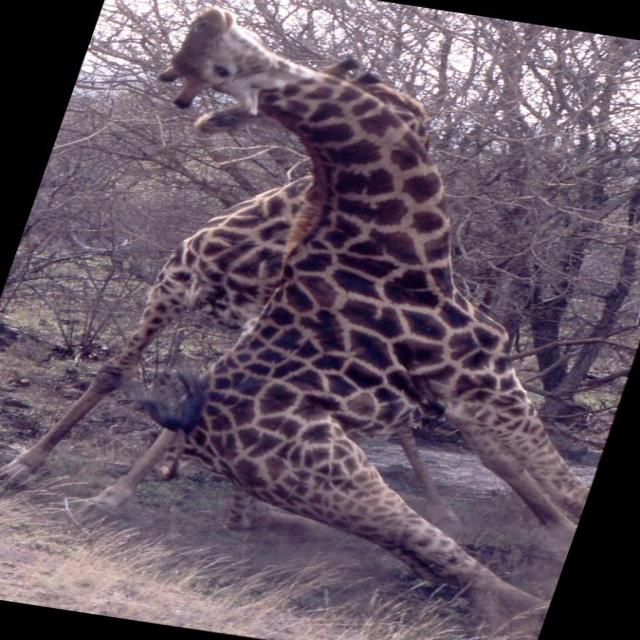Giraffe: (1, 3, 588, 638)
